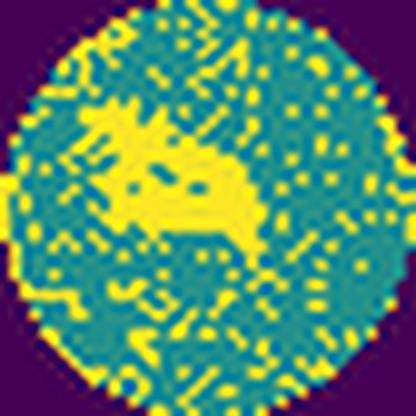Loc: (66, 96, 271, 265)
